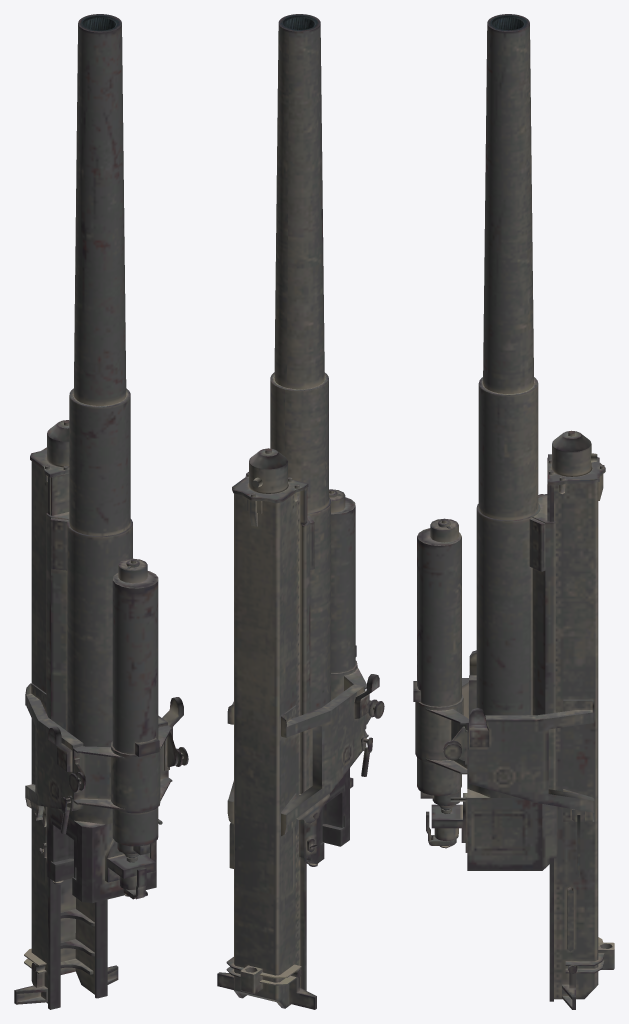
File: Gun_01.glb
3 renders of one model, left to right at view 1: azimuth 30°, elevation 25°; view 2: azimuth 150°, elevation 25°; view 3: azimuth 270°, elevation 25°, orthographic. The views are drawn at different scales.
Visible parts, largest first — view 1: set_0_group_0; view 2: set_0_group_0; view 3: set_0_group_0.
Boxes of the visible parts, <box> form: set_0_group_0: <box>14,14,188,1009</box>; set_0_group_0: <box>217,14,384,1009</box>; set_0_group_0: <box>413,14,614,1009</box>.
Bounding box in the file's own units: 0.691 × 5.17 × 0.979.
Materials: 1 (1 with a texture image).
